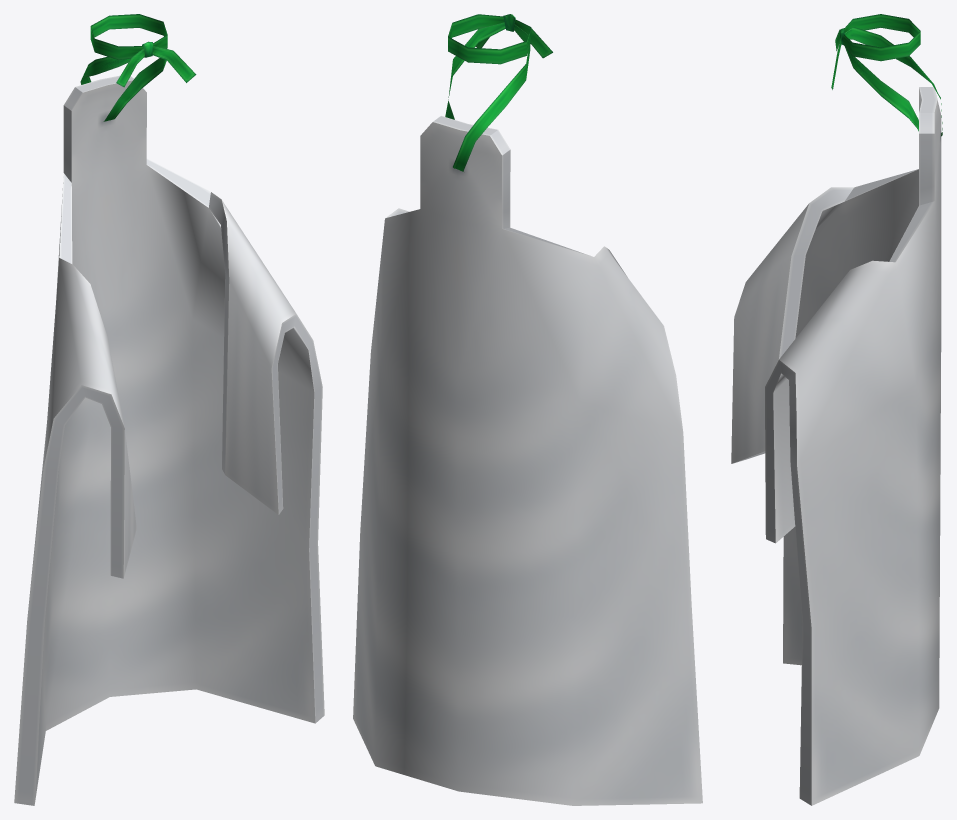
The model's file is jsf_PlasticBag_4PillarString.fbx.
3 views of the same model, side by side, from view 1: azimuth 30°, elevation 25°; view 2: azimuth 150°, elevation 25°; view 3: azimuth 270°, elevation 25° (orthographic). The views are drawn at different scales.
Parts seen in each view (by area): view 1: jsf_PlasticBag_4PillarString; view 2: jsf_PlasticBag_4PillarString; view 3: jsf_PlasticBag_4PillarString.
Part boxes in pixels (x1,y1,x2,y2): jsf_PlasticBag_4PillarString: (14, 14, 324, 805); jsf_PlasticBag_4PillarString: (353, 14, 702, 805); jsf_PlasticBag_4PillarString: (731, 14, 942, 805).
Size of the model in its own units: 18.78 by 40.06 by 10.89.
